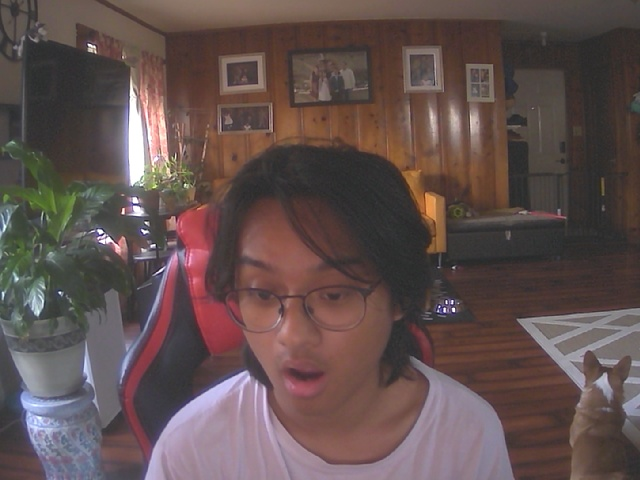fear: (212, 141, 417, 416)
